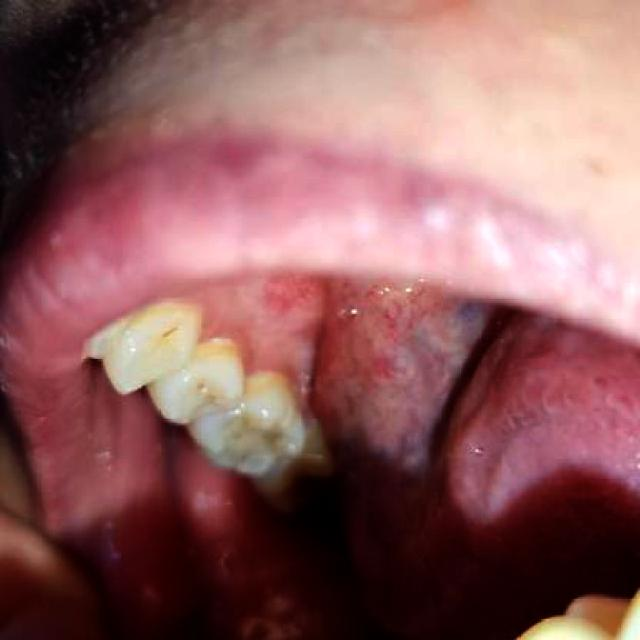Plaque: (231, 422, 294, 457), (186, 379, 224, 405), (148, 320, 186, 345)
